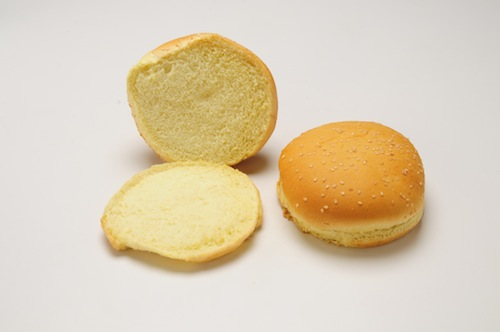hamburger_buns: (107, 33, 274, 282), (261, 113, 432, 256)
